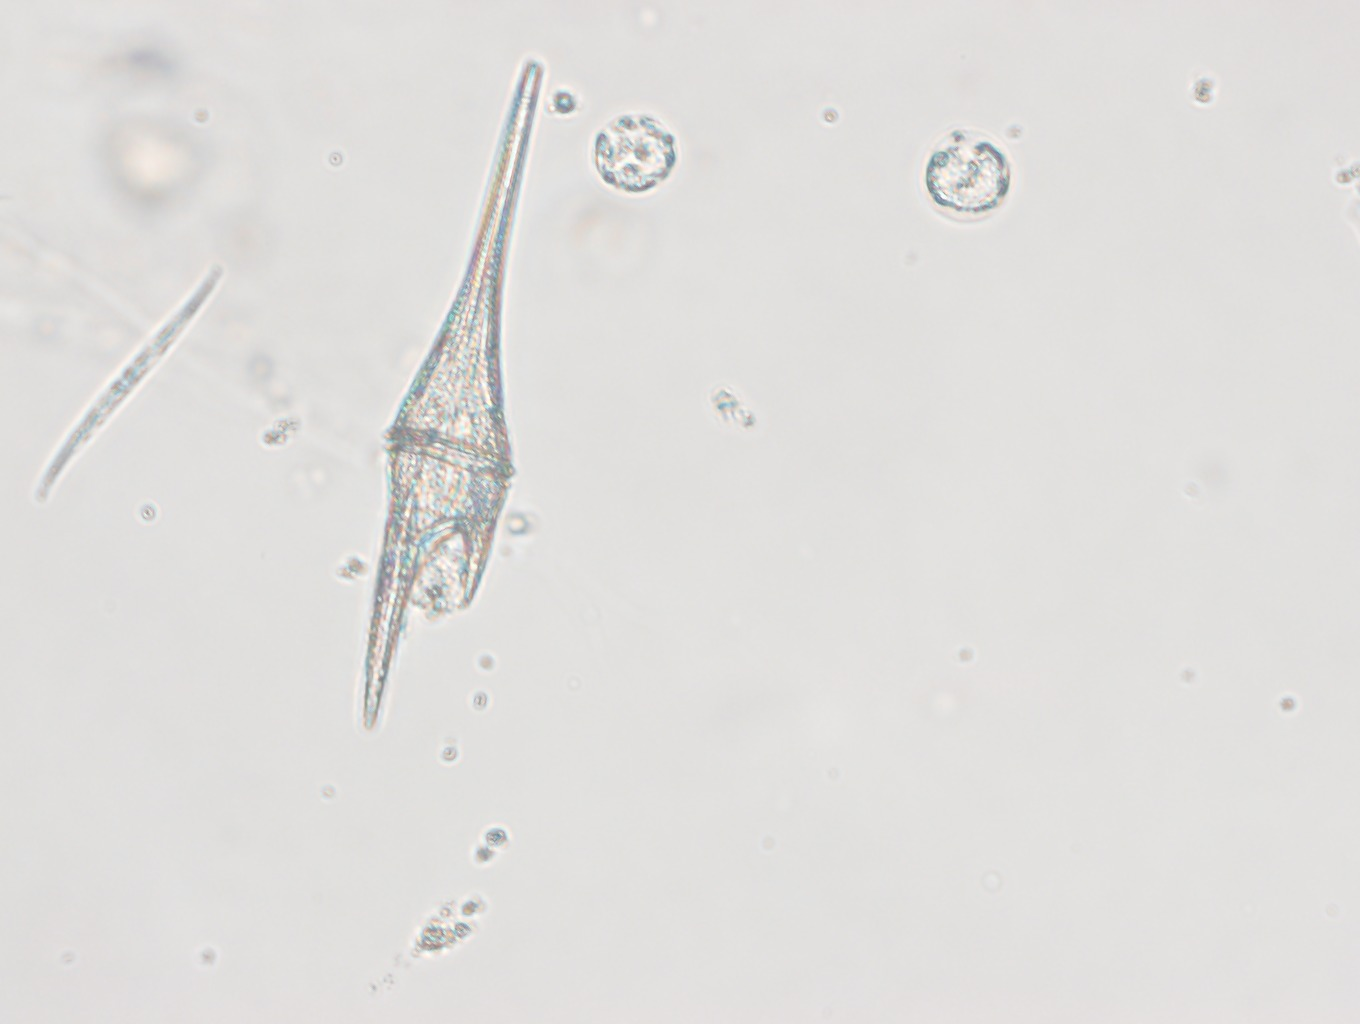ceratium furca: (360, 60, 542, 726)
pleurosigma pelagicum: (35, 264, 224, 502)
